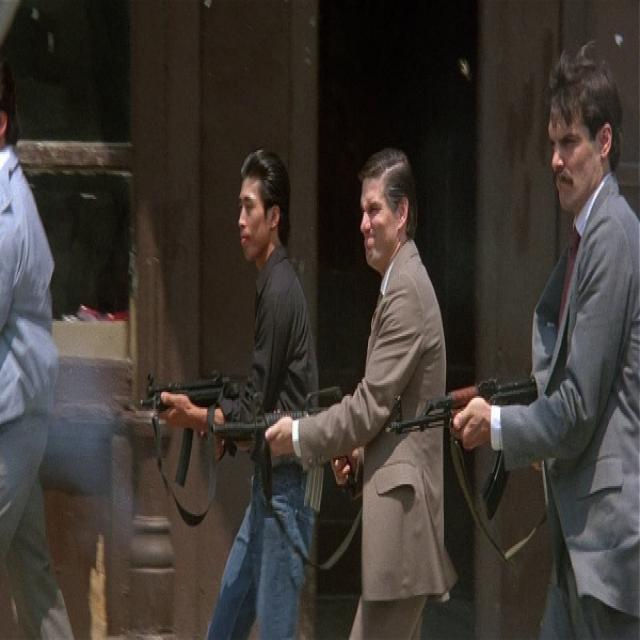rifle: (390, 373, 541, 528), (139, 370, 239, 481)
